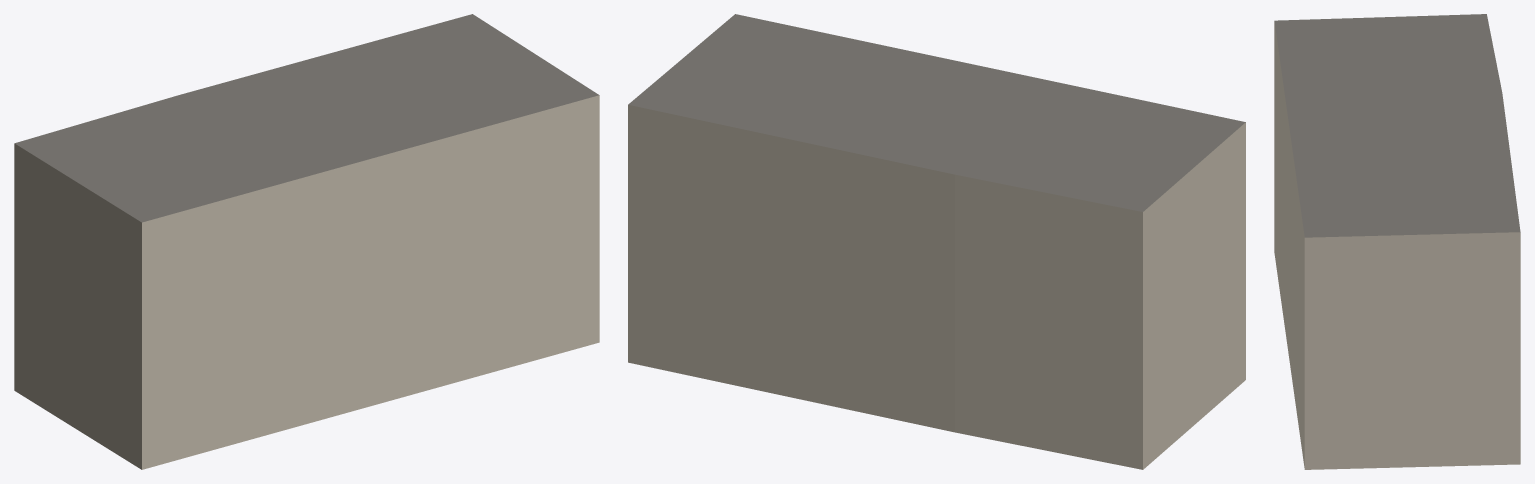
The picture shows the model from 3 angles, left to right: view 1: azimuth 30°, elevation 25°; view 2: azimuth 150°, elevation 25°; view 3: azimuth 270°, elevation 25°; orthographic projection. The views are drawn at different scales.
Visible parts, largest first — view 1: HP-w369317519; view 2: HP-w369317519; view 3: HP-w369317519.
Part boxes in pixels (x1,y1,x2,y2): HP-w369317519: (14,14,599,469); HP-w369317519: (628,14,1245,469); HP-w369317519: (1274,14,1520,469).
Bounding box in the file's own units: 30.98 × 15 × 14.4.
